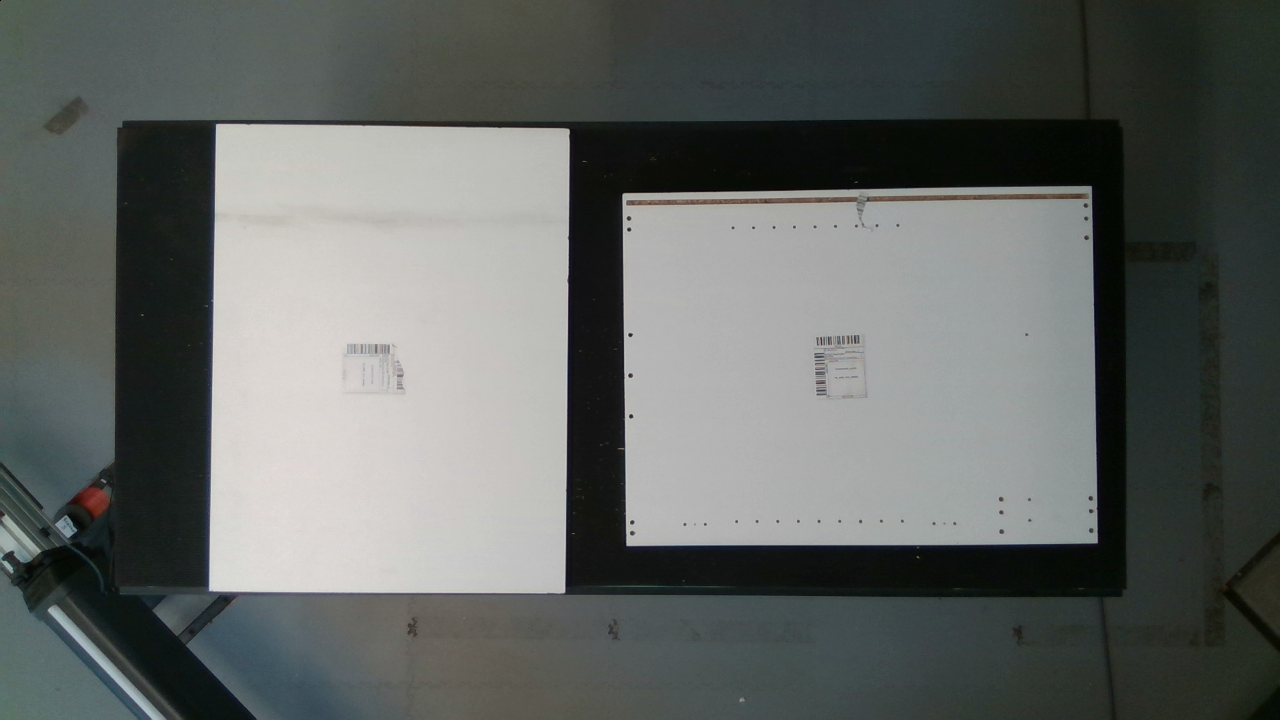barcode: (801, 324, 883, 408), (331, 331, 418, 405)
part2: (204, 117, 586, 607)
